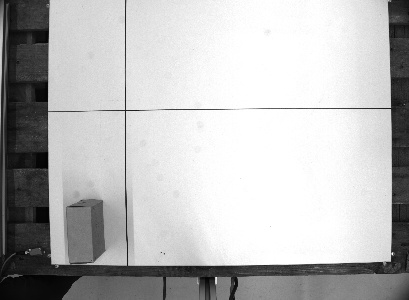b6: (62, 196, 107, 266)
